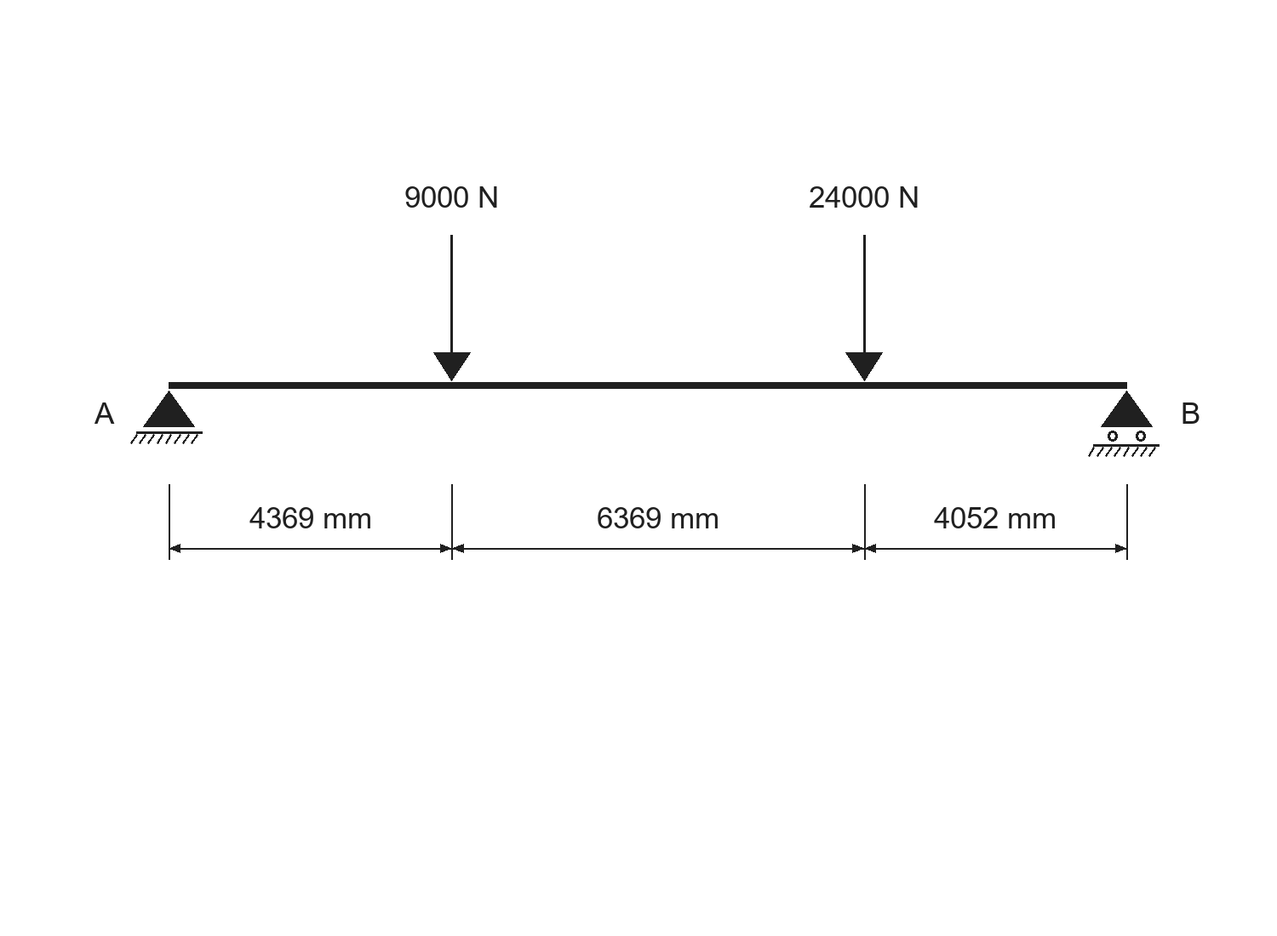pin_support: (130, 391, 203, 444)
point_load: (433, 235, 471, 381), (845, 235, 883, 381)
roller_support: (1088, 391, 1160, 457)
